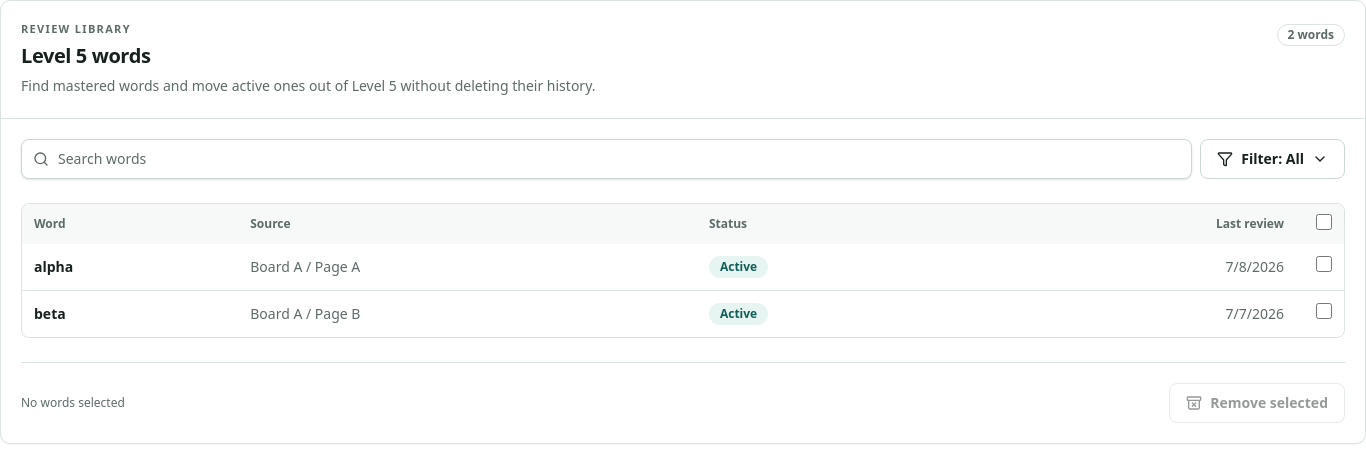
Scenario: LevelFiveSettingsPage redesigned management › selects only visible active words from the rightmost header checkbox
The image size is (1366, 461).
Check: the text "alpha" is shown, box [22,244,238,290]
Click the checkbox named "Select all visible active words": (1324, 222) [1316,214,1332,230]
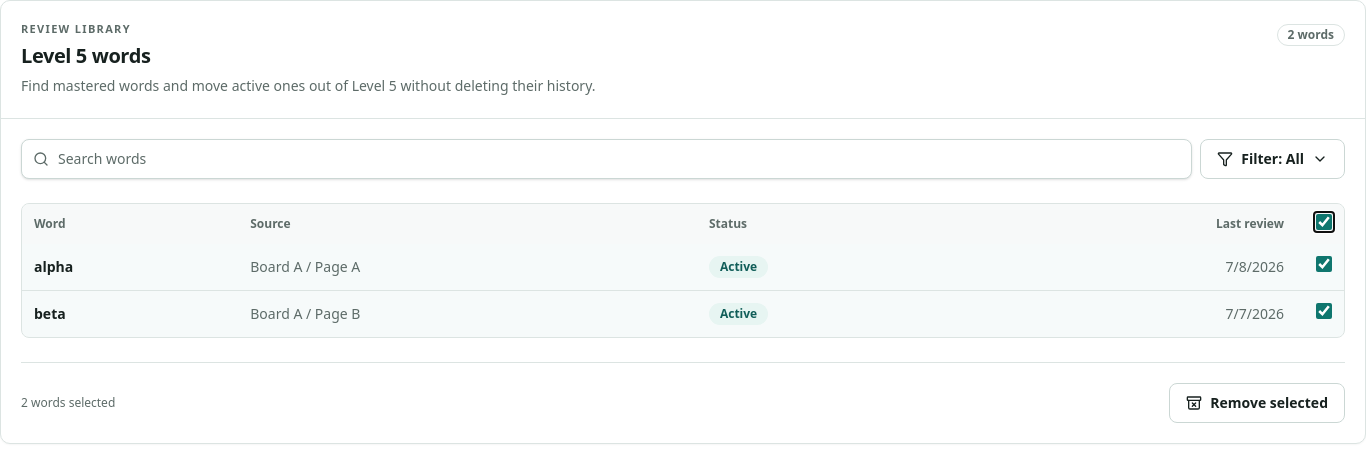
Check: the checkbox named "Select alpha" is checked, box [1316,256,1332,272]
Check: the checkbox named "Select beta" is checked, box [1316,303,1332,319]
Check: the text "2 words selected" is shown, box [21,394,115,410]
Click the checkbox named "Select all visible active words": (1324, 222) [1316,214,1332,230]
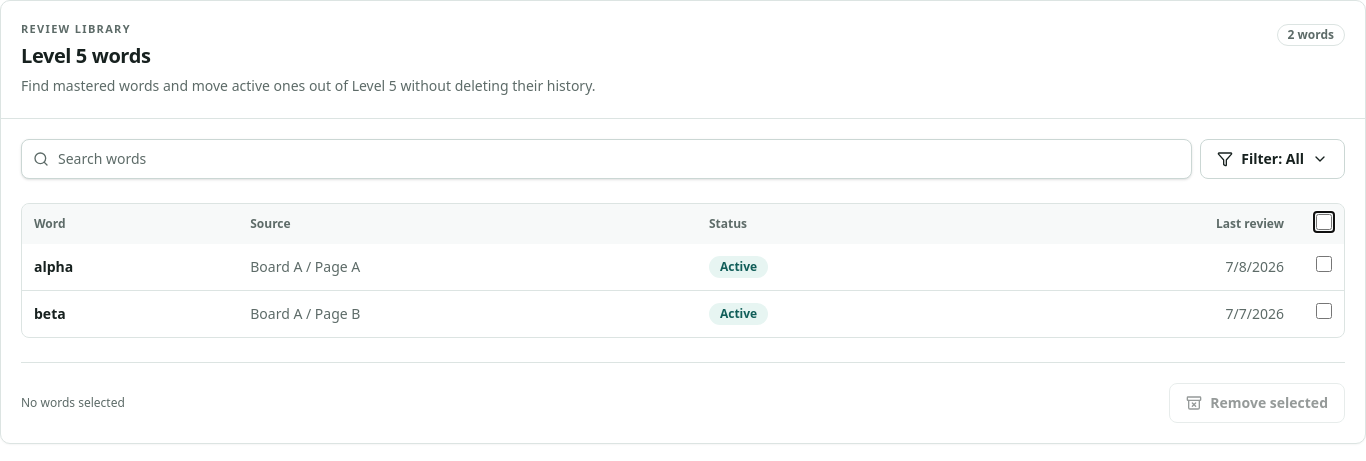
Check: the checkbox named "Select alpha" is not checked, box [1316,256,1332,272]
Check: the checkbox named "Select beta" is not checked, box [1316,303,1332,319]
In the search field named "Search Level 5 words": (607, 158) [21,138,1192,178], type "bet"
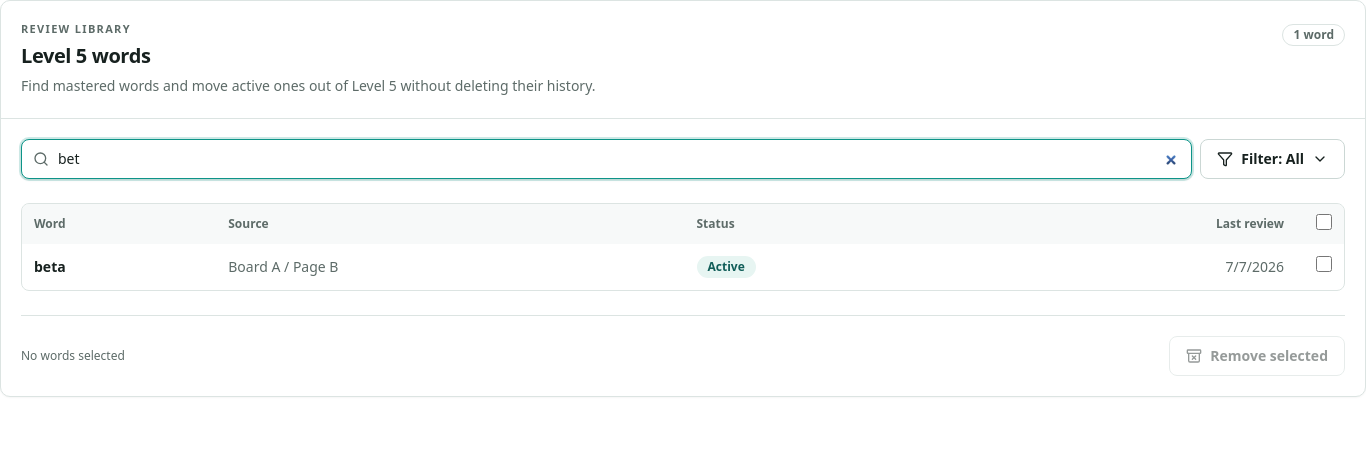
Click the checkbox named "Select all visible active words": (1324, 222) [1316,214,1332,230]
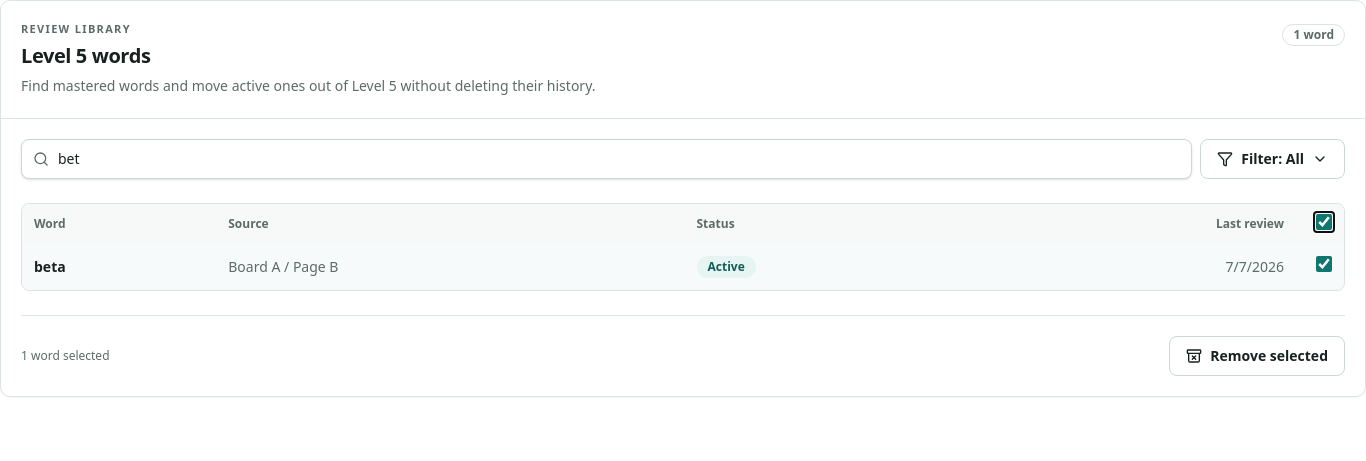
Check: the checkbox named "Select beta" is checked, box [1316,256,1332,272]
Check: the text "1 word selected" is shown, box [21,348,110,364]
